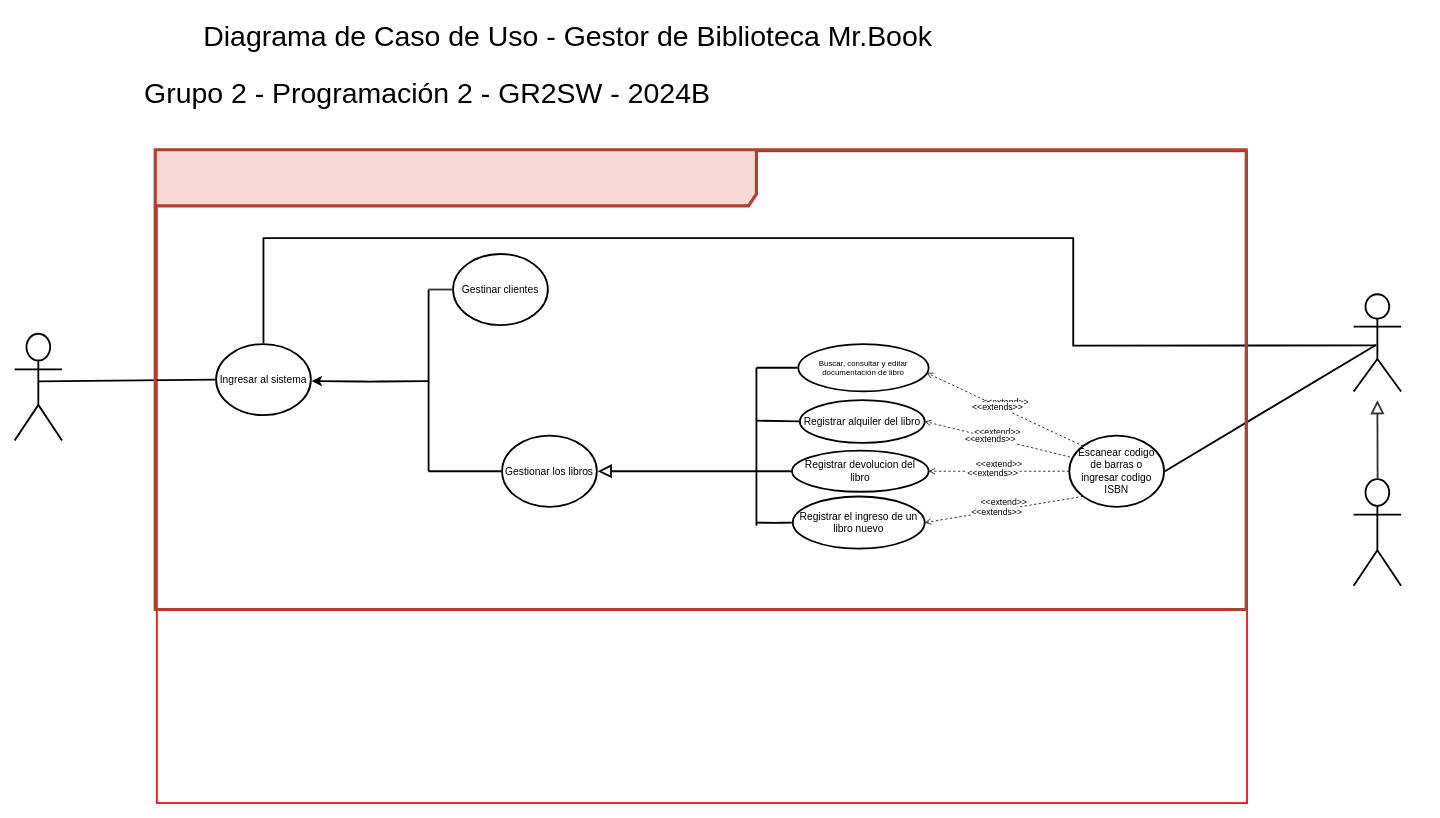
Some shapes in this 1440 by 818 pixel diagram are drawn without their labels. The box of each missing label's shape, as (x1, y1, x2, y2) in pixels:
CUD1: Sistema de gestion de la biblioteca Mr. Book: (153, 148, 1247, 611)
Lector de barras: (1352, 478, 1402, 586)
sistema: (1352, 293, 1402, 392)
Vendedor: (13, 333, 63, 441)
